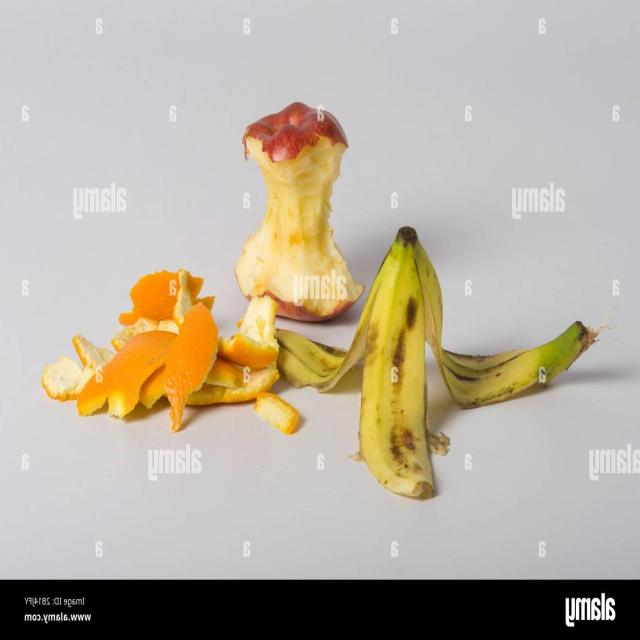organic: (234, 225, 595, 502), (39, 267, 301, 435), (234, 100, 363, 322), (356, 224, 454, 498), (164, 303, 216, 434), (253, 392, 298, 437)
